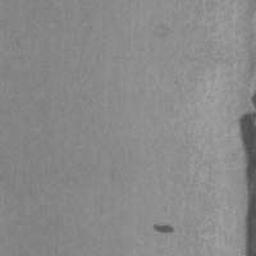Oil spot: (238, 88, 256, 256), (147, 22, 170, 41), (151, 221, 175, 234)
